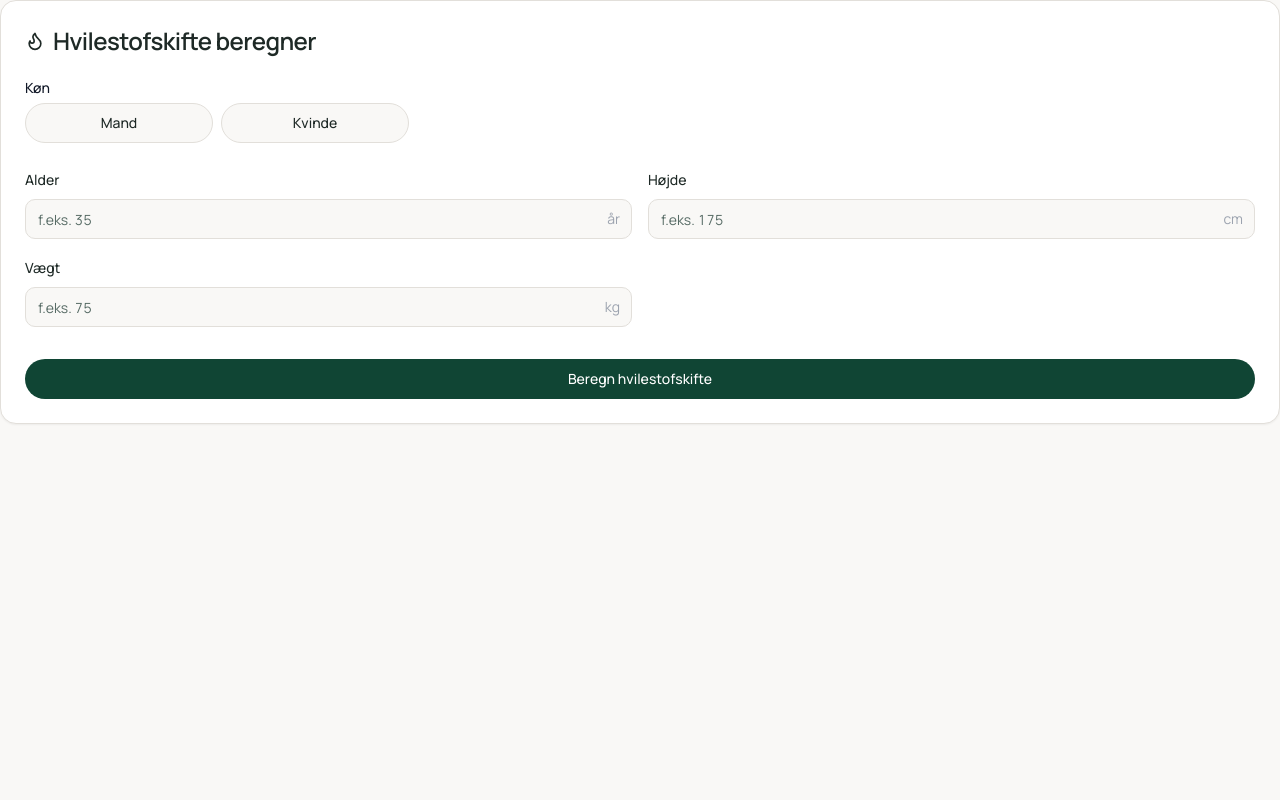
Scenario: RestingMetabolicRateCalculator › repeats the entered profile above the result
The width and height of the screenshot is (1280, 800).
Click the button "Mand" at (119, 123), box 25,103 -> 213,143
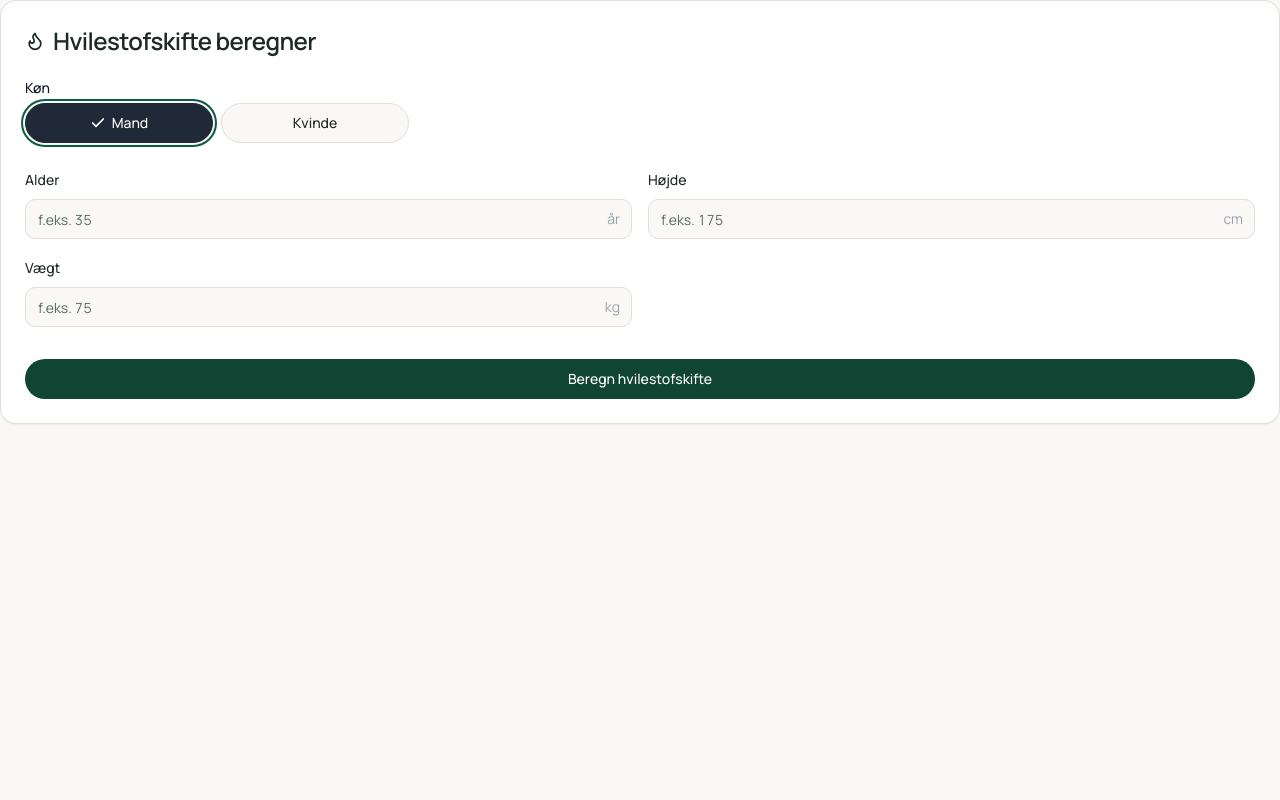
Type "31" into the field labelled "Alder" at (328, 219), box 25,199 -> 632,239
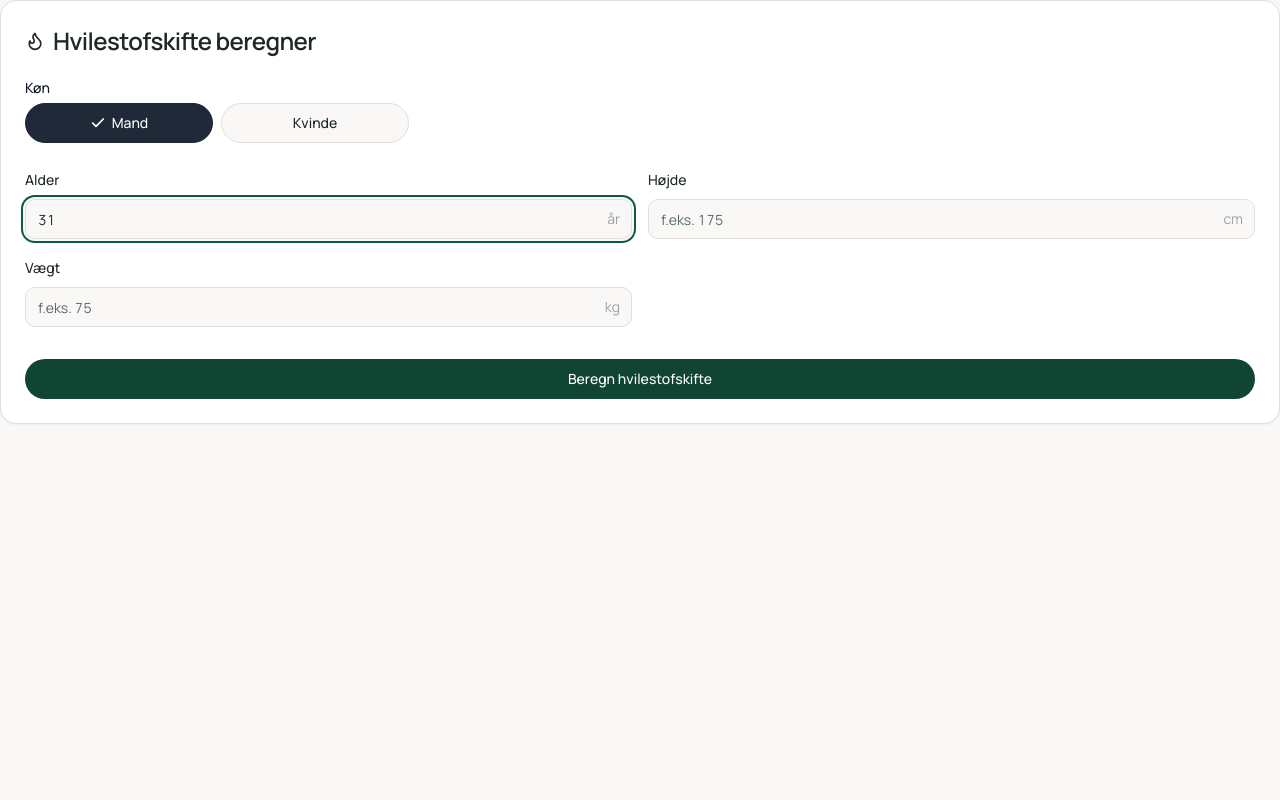
Type "193" into the field labelled "Højde" at (952, 219), box 648,199 -> 1255,239
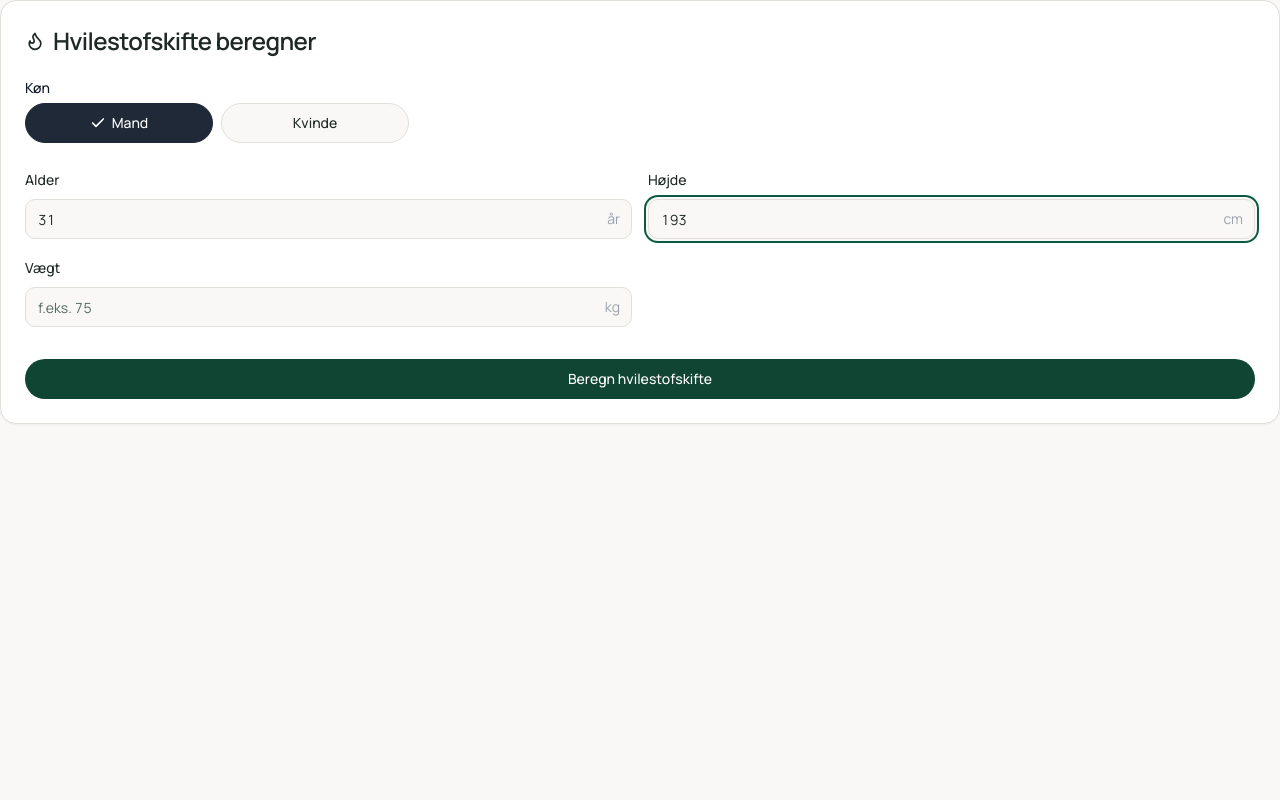
Type "100" into the field labelled "Vægt" at (328, 307), box 25,287 -> 632,327
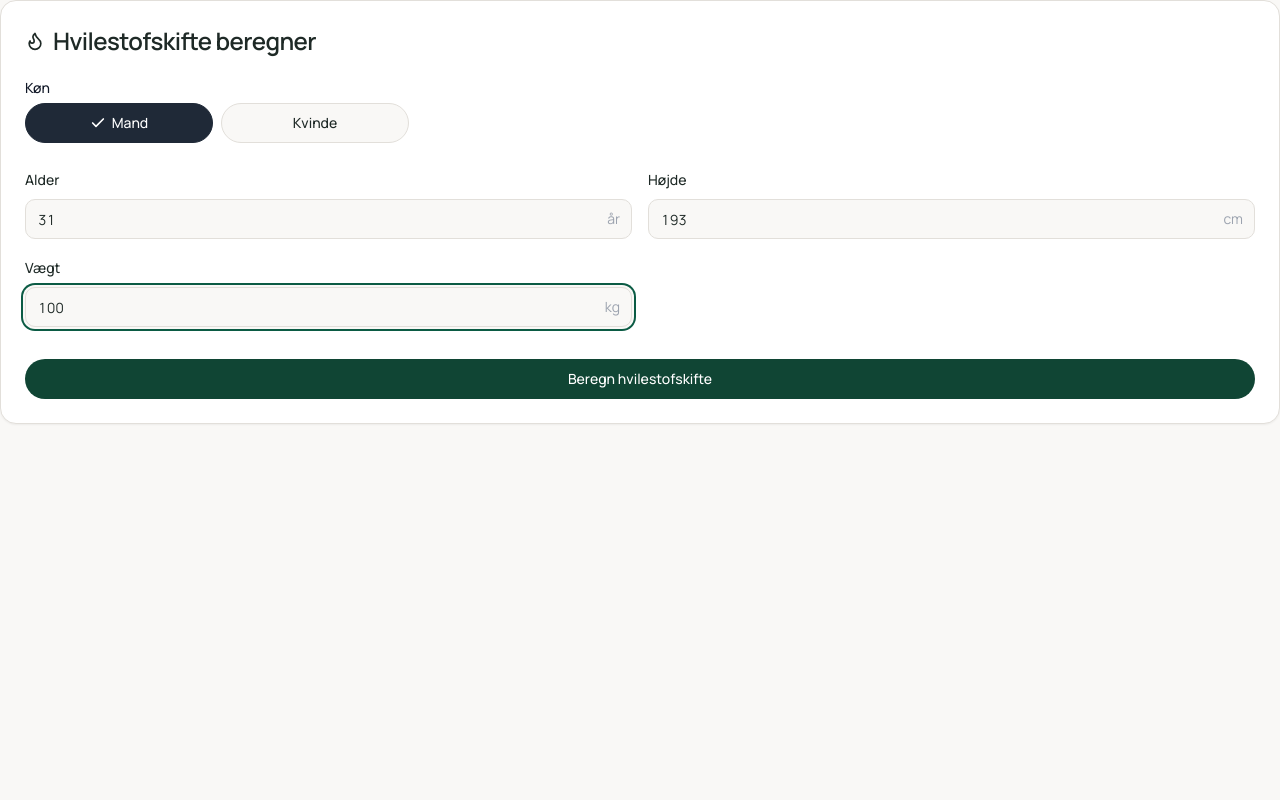
Click the button "Beregn hvilestofskifte" at (640, 379), box 25,359 -> 1255,399
(page scrolled)
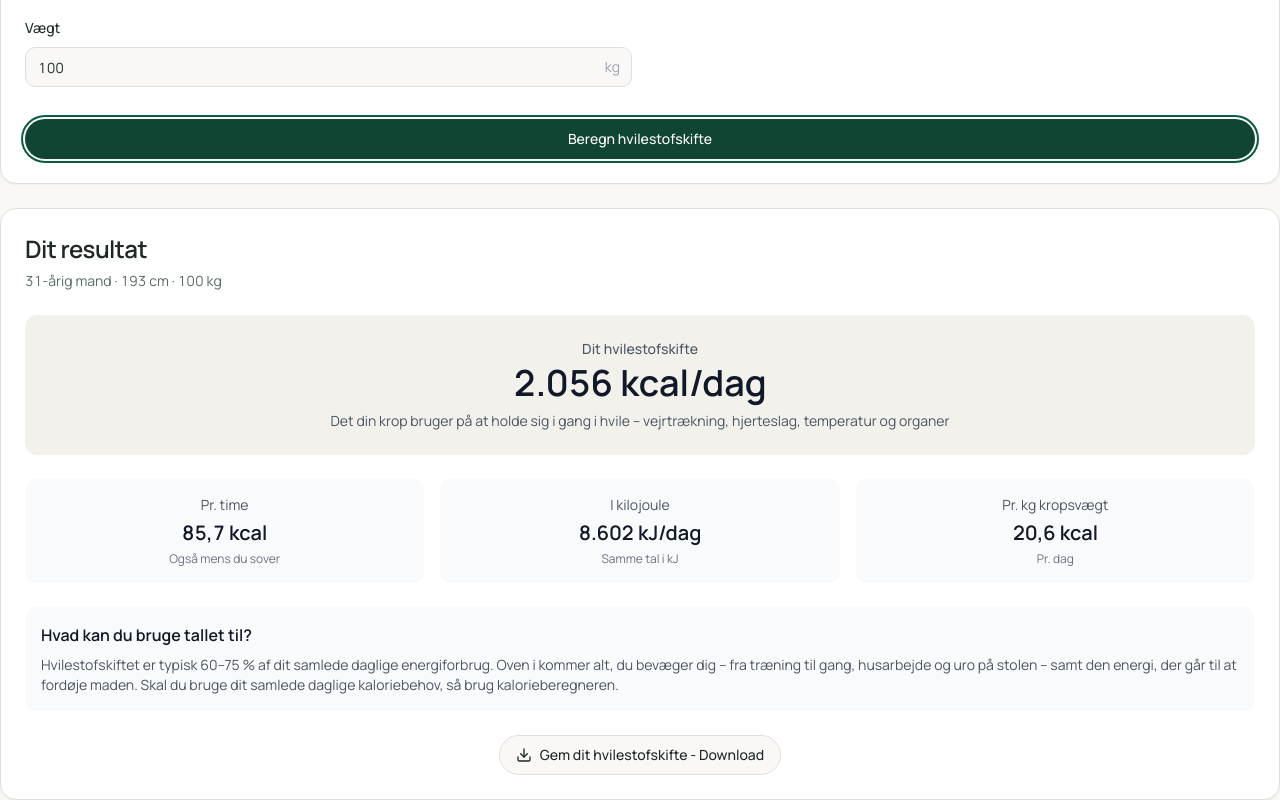
Expected: the text "31-årig mand · 193 cm · 100 kg" is shown, 25,271 -> 222,290
